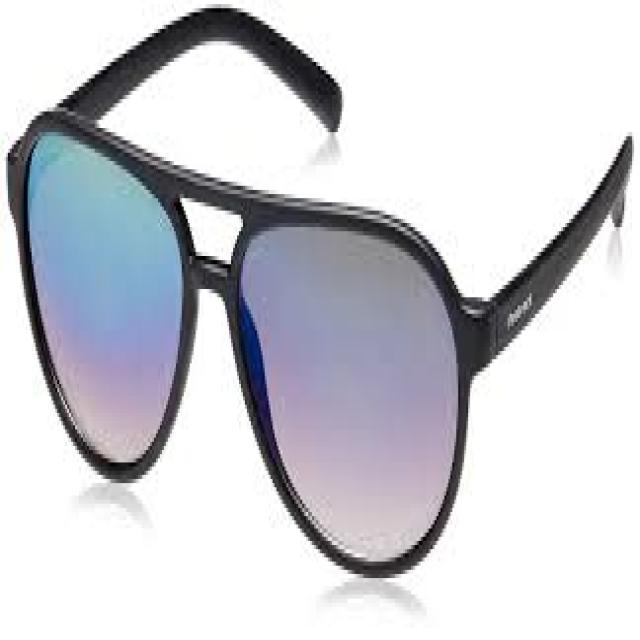sunglasses: (1, 46, 497, 594)
